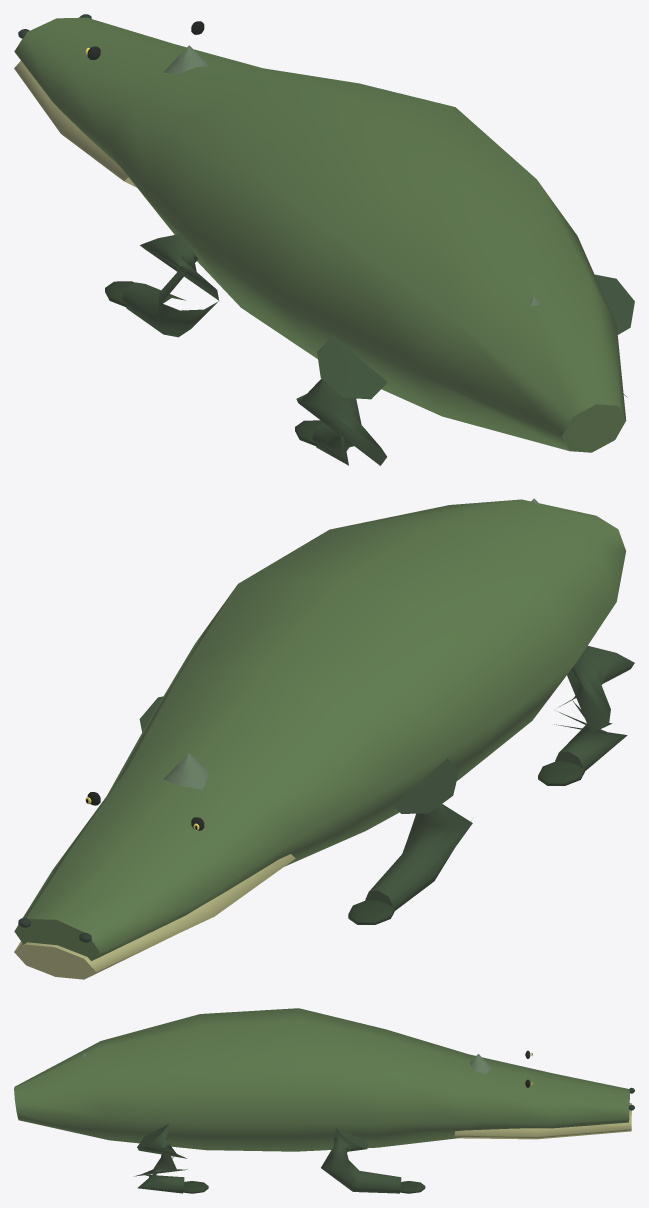
File: crocodile_mobile.glb
3 renders of one model, top to bottom at view 1: azimuth 30°, elevation 25°; view 2: azimuth 150°, elevation 25°; view 3: azimuth 270°, elevation 25°, orthographic. The views are drawn at different scales.
Visible parts, largest first — view 1: CrocodileOrganicBody, Leg_LH, Leg_LF, LowerJaw, Leg_RH, _MeshInstance3D_96; view 2: CrocodileOrganicBody, Leg_LF, LowerJaw, Leg_LH, _MeshInstance3D_96, Paw_LF, Paw_LH; view 3: CrocodileOrganicBody, Leg_RF, LowerJaw, Leg_RH, Paw_RF, Paw_RH.
Part boxes in pixels (box(x1,y1,x2,y2)): CrocodileOrganicBody: box(14, 17, 626, 452); Leg_LH: box(296, 335, 387, 465); Leg_LF: box(122, 234, 219, 337); LowerJaw: box(14, 61, 136, 187); Leg_RH: box(595, 274, 634, 397); _MeshInstance3D_96: box(163, 45, 209, 73); CrocodileOrganicBody: box(14, 499, 626, 960); Leg_LF: box(365, 758, 472, 910); LowerJaw: box(14, 854, 295, 979); Leg_LH: box(554, 646, 634, 770); _MeshInstance3D_96: box(163, 752, 209, 789); Paw_LF: box(348, 900, 395, 924); Paw_LH: box(538, 761, 585, 785); CrocodileOrganicBody: box(14, 1008, 629, 1151); Leg_RF: box(321, 1128, 401, 1193); LowerJaw: box(454, 1103, 631, 1139); Leg_RH: box(133, 1124, 187, 1193); Paw_RF: box(397, 1181, 425, 1193); Paw_RH: box(180, 1181, 208, 1193).
Bounding box in the file's own units: 2.07 × 1.52 × 6.22.
